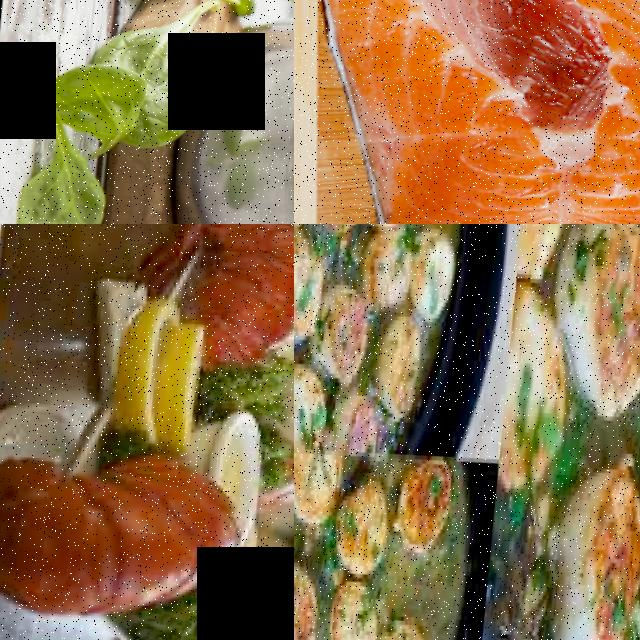salmon: (311, 0, 640, 224)
sea scallops: (541, 224, 640, 430), (536, 475, 640, 640), (310, 279, 375, 395), (400, 229, 465, 336), (371, 319, 427, 426), (608, 483, 640, 640), (294, 233, 330, 343)
spinach: (128, 23, 216, 163), (44, 60, 141, 156), (0, 150, 113, 224)
